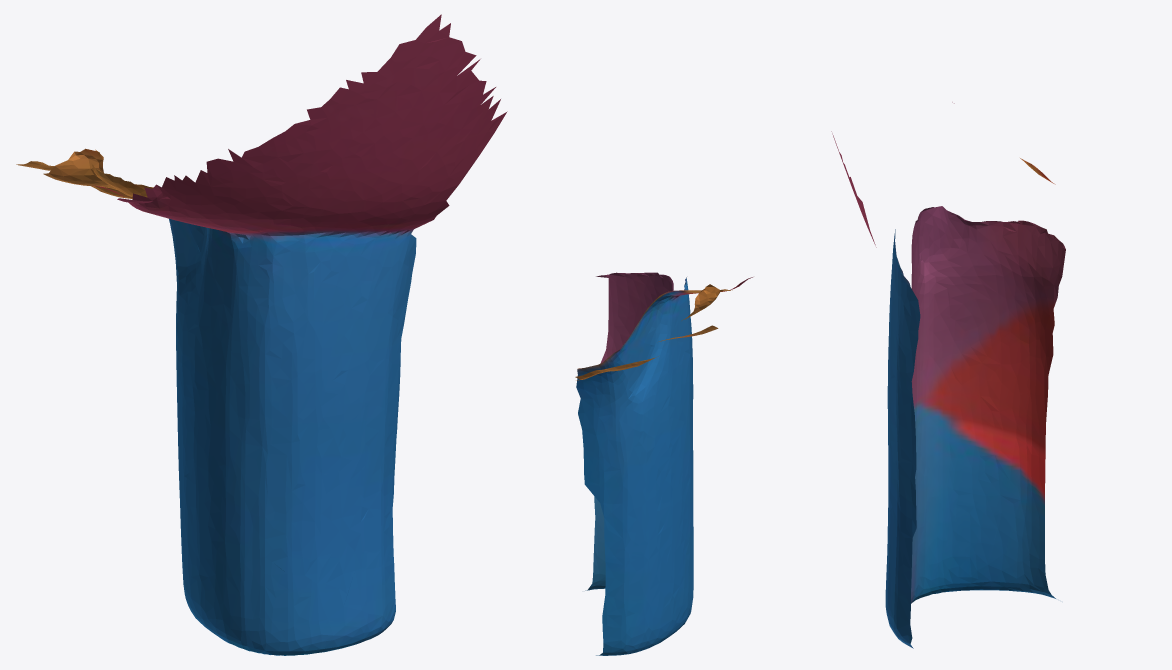
The picture shows the model from 3 angles, left to right: view 1: azimuth 30°, elevation 25°; view 2: azimuth 150°, elevation 25°; view 3: azimuth 270°, elevation 25°; orthographic projection. The views are drawn at different scales.
Parts seen in each view (by area): view 1: tripo_mesh_045d8eb0-72ec-4624-9759-a425f321d17a; view 2: tripo_mesh_045d8eb0-72ec-4624-9759-a425f321d17a; view 3: tripo_mesh_045d8eb0-72ec-4624-9759-a425f321d17a.
Part boxes in pixels (x1,y1,x2,y2): tripo_mesh_045d8eb0-72ec-4624-9759-a425f321d17a: [16, 14, 507, 655]; tripo_mesh_045d8eb0-72ec-4624-9759-a425f321d17a: [575, 272, 752, 655]; tripo_mesh_045d8eb0-72ec-4624-9759-a425f321d17a: [831, 102, 1065, 648].
Bounding box in the file's own units: 0.1812 × 0.3237 × 0.1676.
Materials: 1 (1 with a texture image).
